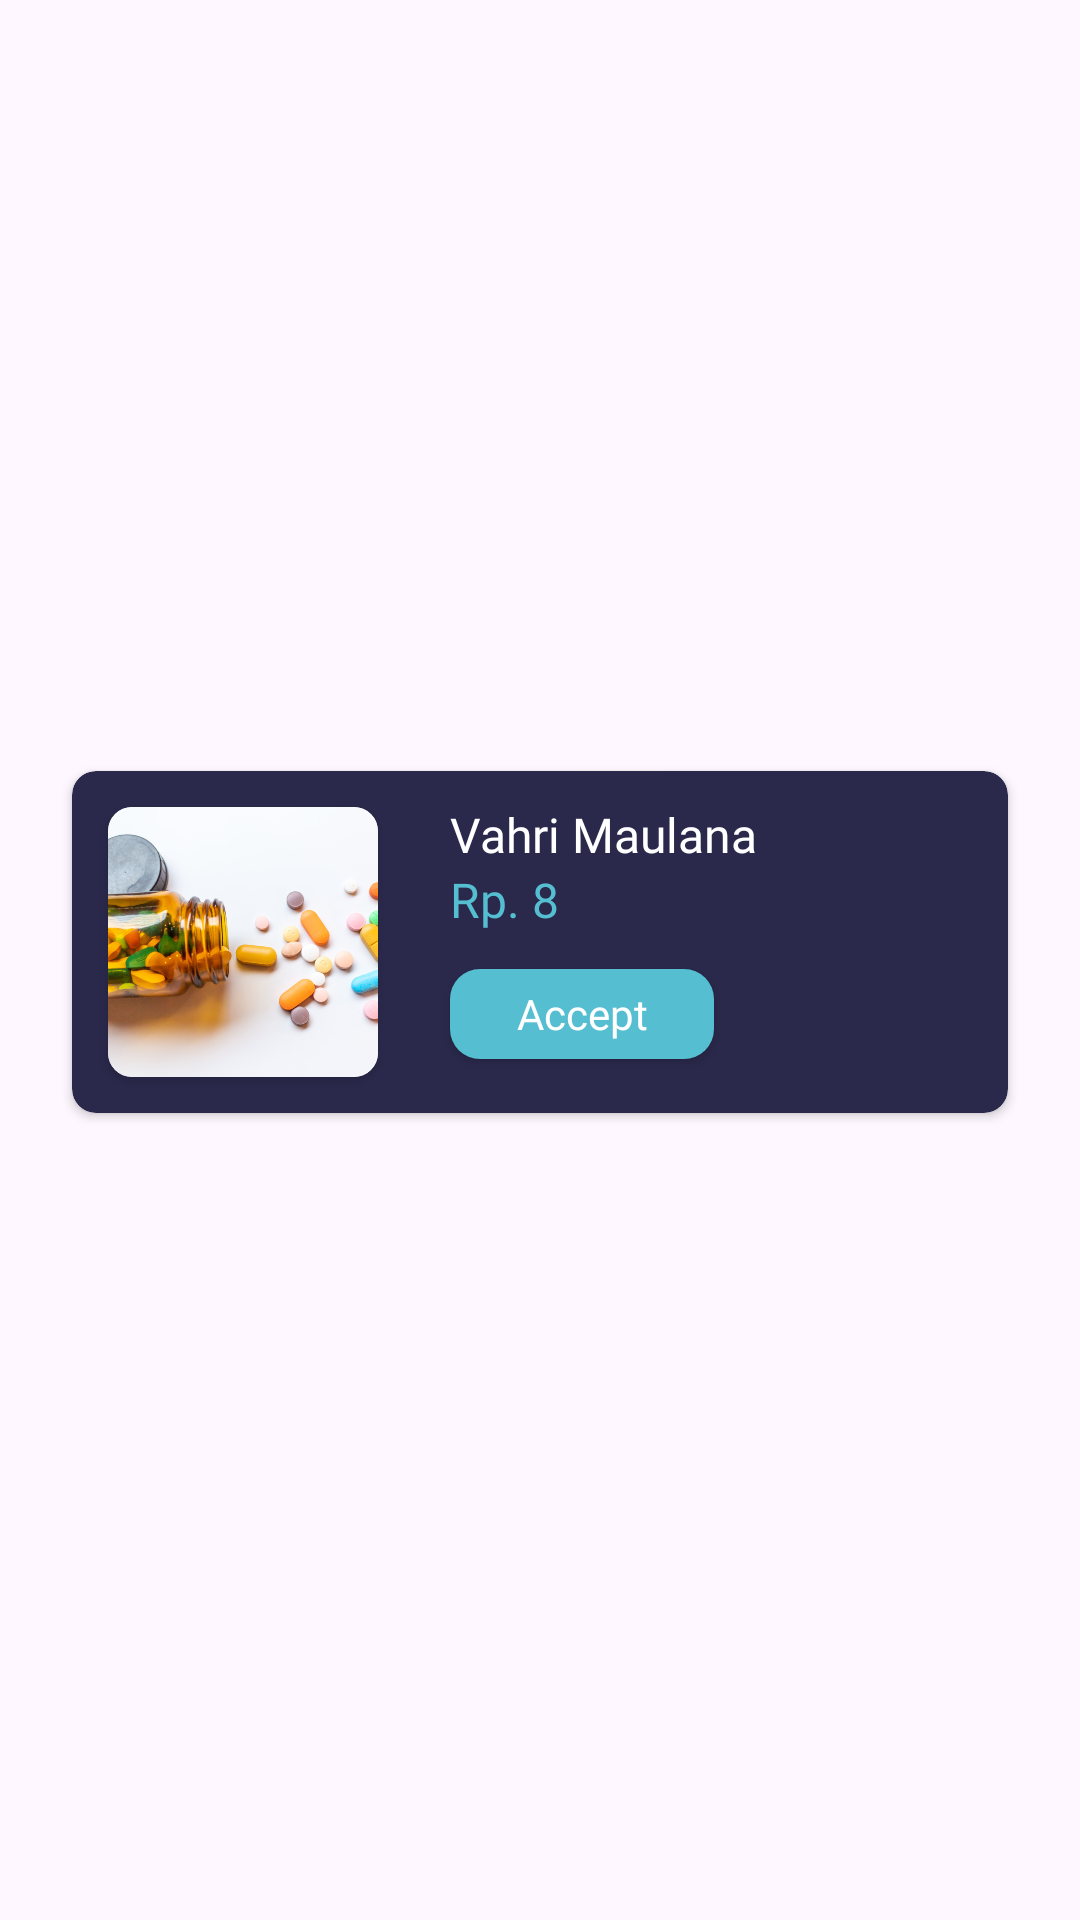

Named icons in this screenshot (1080px×1920px) and their bounding boxes, [x1=x1, y1=y1, x2=x2, y2=y2]:
ill obat: [x1=108, y1=807, x2=378, y2=1077]
